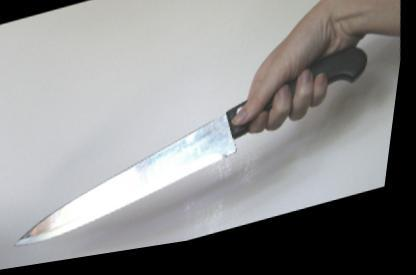knife: (0, 44, 390, 255)
